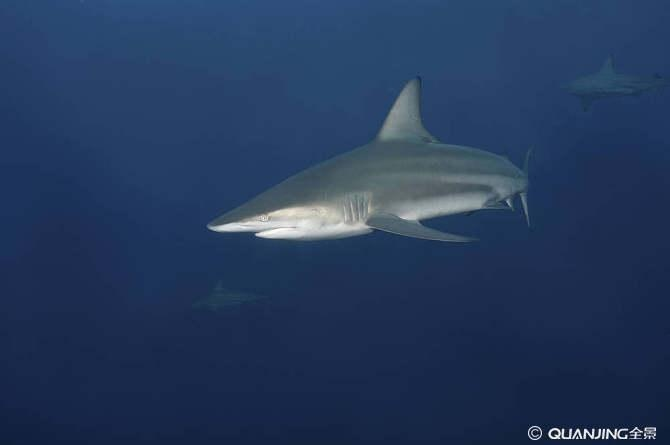fish: (194, 70, 540, 256)
